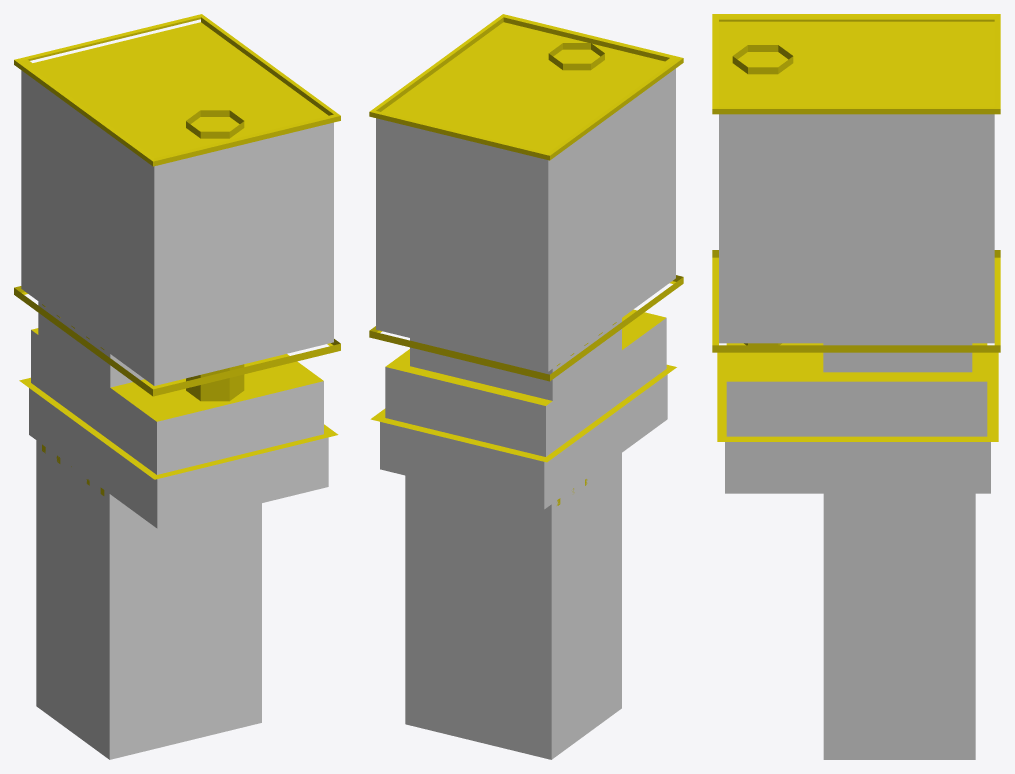
The model's file is Floor 7.fbx.
The picture shows the model from 3 angles, left to right: view 1: azimuth 30°, elevation 25°; view 2: azimuth 150°, elevation 25°; view 3: azimuth 270°, elevation 25°; orthographic projection. The views are drawn at different scales.
Parts seen in each view (by area): view 1: Plane; view 2: Plane; view 3: Plane.
Boxes of the visible parts, left/top/right/bottom form: Plane: left=14, top=14, right=340, bottom=759; Plane: left=369, top=14, right=683, bottom=759; Plane: left=712, top=14, right=1000, bottom=759.
Bounding box in the file's own units: 5926 × 19325 × 7591.
